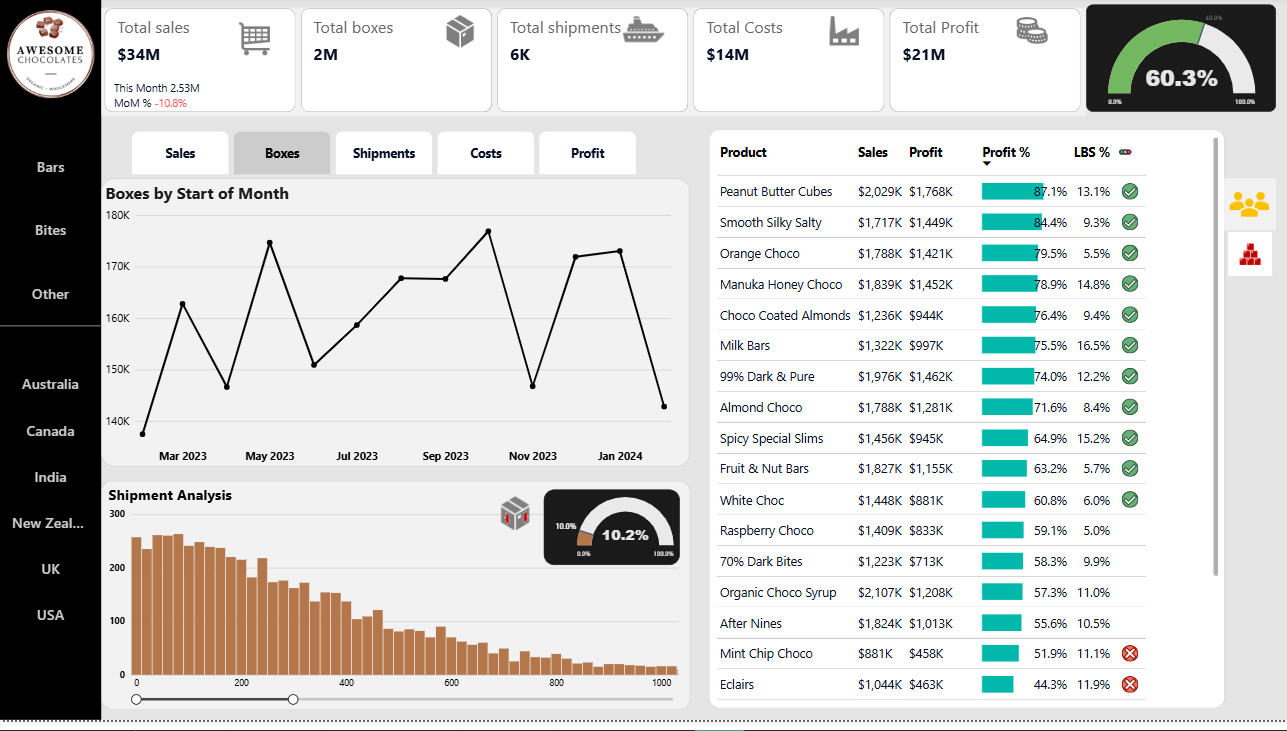

What the dashboard file says about the page in this screenshot:
{"tool":"powerbi","page":{"name":"Sales Report","canvas":[1920,1080],"ordinal":2},"visuals":[{"type":"shape","box":[0,0,151.1,1079],"z":0},{"type":"cardVisual","fields":{"Data":["_Measures.Total sales","_Measures.Total boxes","_Measures.Total shipments","_Measures.Total Costs","_Measures.Total Profit"]},"box":[151.1,16.8,1470.4,160.5],"z":1000},{"type":"gauge","fields":{"Y":["_Measures.Profit %"]},"box":[1620.9,10.8,283.5,160.1],"z":2000},{"type":"image","box":[0,15.1,151.5,140.7],"z":3000},{"type":"lineChart","fields":{"Y":["_Measures.Total boxes"],"Category":["calendar.Start of Month"]},"box":[151.5,270.5,878.6,430.7],"z":4000},{"type":"advancedSlicerVisual","fields":{"Values":["Measure selector.Measure selector"]},"box":[192.2,195.9,766.9,74.6],"z":5000},{"type":"columnChart","title":"Shipment Analysis","fields":{"Category":["shipments.Boxes (bins)"],"Y":["_Measures.Total shipments"]},"box":[151.1,722.1,878.9,341.5],"z":6000},{"type":"gauge","fields":{"Y":["_Measures.LBS %"]},"box":[811.6,735.8,203.4,112.5],"z":7000},{"type":"image","box":[725,735.8,86.6,71.4],"z":8000},{"type":"image","box":[333.3,28.1,95.2,69.3],"z":9000},{"type":"image","box":[649.2,17.3,75.7,69.3],"z":10000},{"type":"image","box":[924.1,10.8,75.7,75.7],"z":11000},{"type":"image","box":[1222.7,15.1,75.7,71.4],"z":12000},{"type":"image","box":[1501.9,19.5,75.7,62.8],"z":13000},{"type":"tableEx","title":"Product Detail","fields":{"Values":["products.Product","_Measures.Total sales","_Measures.Total Profit","_Measures.Profit %","_Measures.LBS %","_Measures.Profit Target Indicator"]},"box":[1058,197.8,770.6,863.9],"z":15000},{"type":"image","box":[1824.4,270.5,80.1,77.9],"z":16000},{"type":"image","box":[1828.7,333.3,75.7,99.6],"z":17000},{"type":"advancedSlicerVisual","fields":{"Values":["products.Category"]},"box":[0,203.4,151.5,287.8],"z":18000},{"type":"advancedSlicerVisual","fields":{"Values":["shipments.Geography"]},"box":[0,541,151.5,417.7],"z":19000},{"type":"shape","box":[0,333.3,151.5,313.8],"z":20000}]}

Visuals, with their boxes in screenshot pixels (x1, y1, x2, y2), scaled from the page's 1920x1080 canvas onto the 1287x731 screenshot:
shape: 0, 0, 101, 730
cardVisual - _Measures.Total sales x _Measures.Total boxes: 101, 11, 1087, 120
gauge - _Measures.Profit %: 1087, 7, 1277, 116
image: 0, 10, 102, 105
lineChart - _Measures.Total boxes x calendar.Start of Month: 102, 183, 690, 475
advancedSlicerVisual - Measure selector.Measure selector: 129, 133, 643, 183
"Shipment Analysis" columnChart: 101, 489, 690, 720
gauge - _Measures.LBS %: 544, 498, 680, 574
image: 486, 498, 544, 546
image: 223, 19, 287, 66
image: 435, 12, 486, 59
image: 619, 7, 670, 59
image: 820, 10, 870, 59
image: 1007, 13, 1057, 56
"Product Detail" tableEx: 709, 134, 1226, 719
image: 1223, 183, 1277, 236
image: 1226, 226, 1277, 293
advancedSlicerVisual - products.Category: 0, 138, 102, 332
advancedSlicerVisual - shipments.Geography: 0, 366, 102, 649
shape: 0, 226, 102, 438
